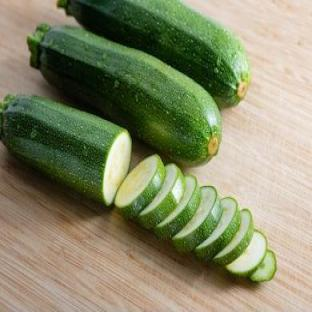Zucchini: (28, 26, 221, 165), (0, 95, 131, 205), (172, 186, 222, 251), (115, 155, 165, 219), (138, 164, 184, 229), (155, 176, 201, 239), (195, 197, 240, 260), (213, 209, 254, 266), (226, 231, 267, 277), (250, 250, 276, 281)
